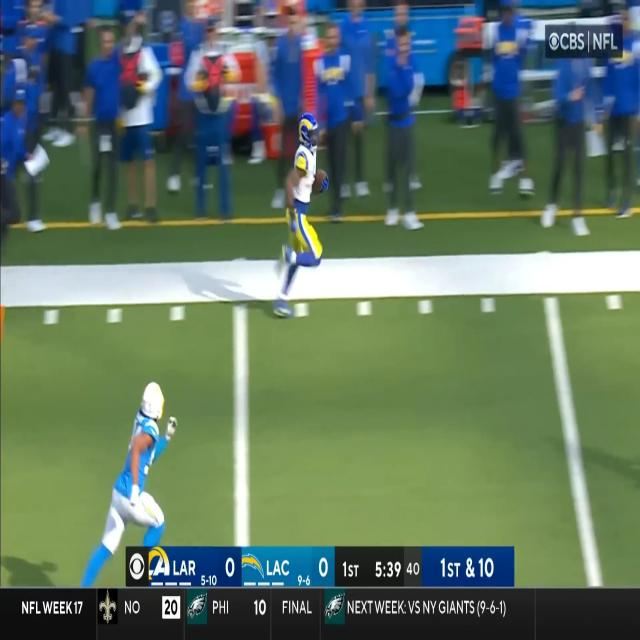football: (313, 164, 330, 197)
players: (66, 375, 185, 569), (277, 110, 331, 302)
